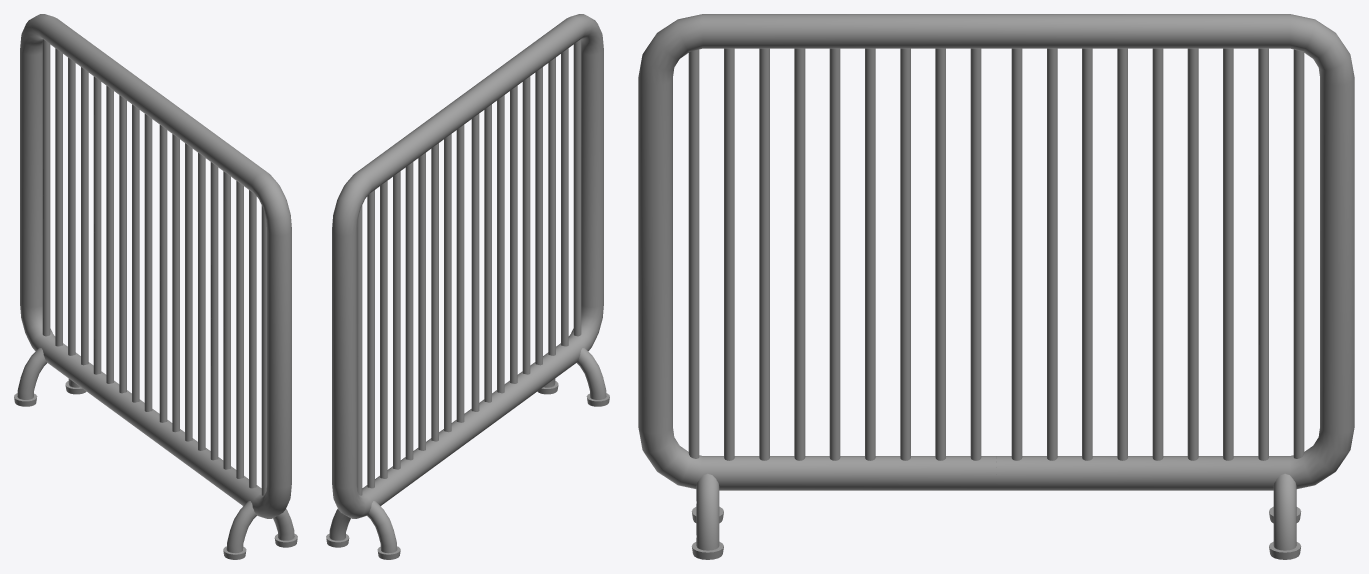
File: MetalBarrier02.fbx
The picture shows the model from 3 angles, left to right: view 1: azimuth 30°, elevation 25°; view 2: azimuth 150°, elevation 25°; view 3: azimuth 270°, elevation 25°; orthographic projection. The views are drawn at different scales.
Visible parts, largest first — view 1: MetalBarrier02; view 2: MetalBarrier02; view 3: MetalBarrier02.
Boxes of the visible parts, x1=… form: MetalBarrier02: x1=14, y1=14, x2=297, y2=559; MetalBarrier02: x1=326, y1=14, x2=609, y2=559; MetalBarrier02: x1=638, y1=14, x2=1354, y2=559.
Bounding box in the file's own units: 0.421 × 2.64 × 2.12.
